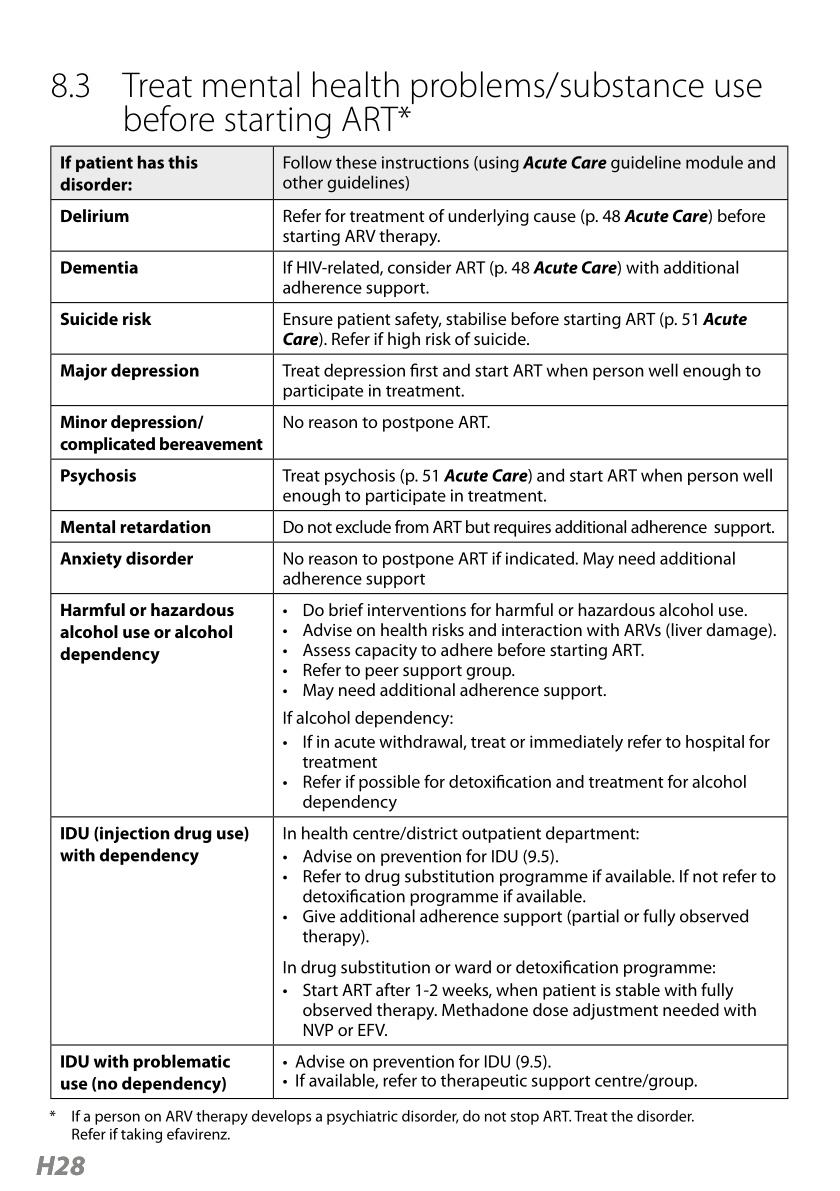full_lined: (50, 144, 789, 1100)
